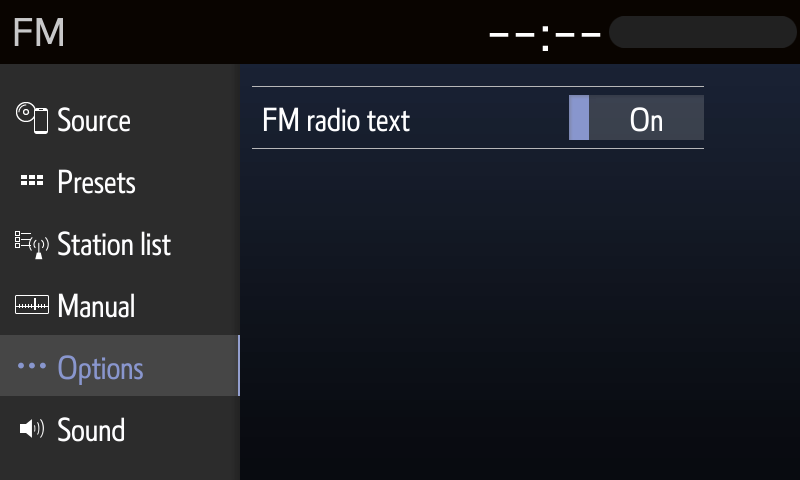touchPart: (565, 92, 708, 141), (12, 226, 175, 263), (4, 409, 140, 453), (13, 99, 136, 141), (9, 165, 143, 201), (10, 289, 138, 322)
untouchPart: (250, 82, 545, 155), (609, 11, 798, 51), (8, 341, 148, 391), (484, 14, 600, 53), (9, 13, 72, 55)
